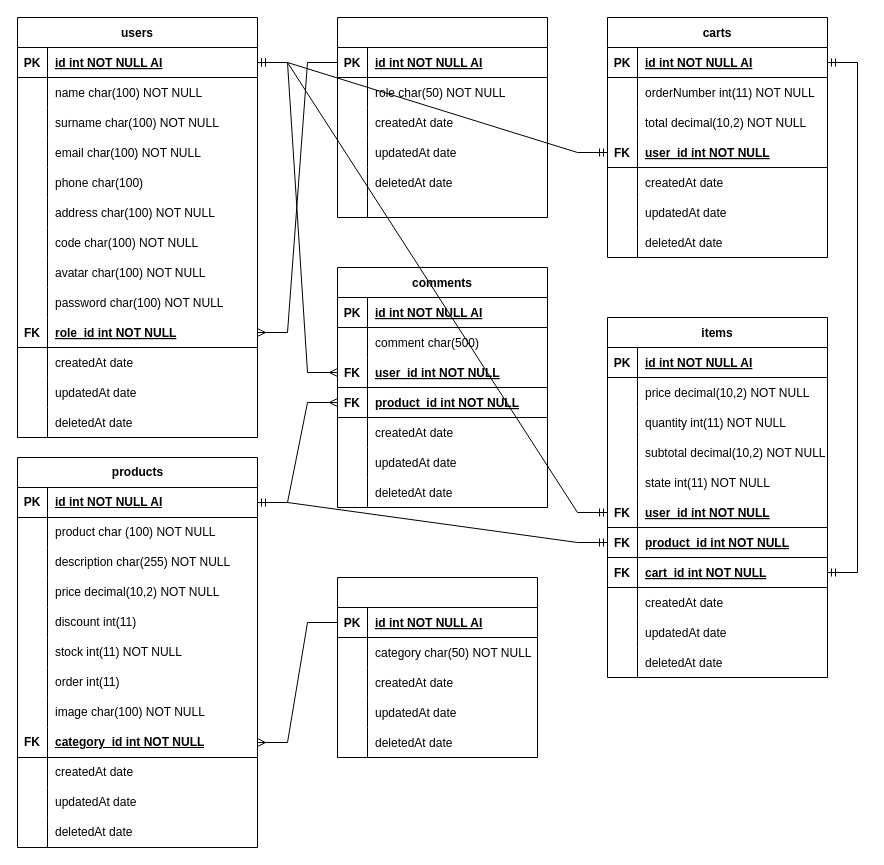
The diagram is 884 pixels wide and 865 high, and some of its shapes have lost their labels. The box of each missing label's shape, as (x1, y1, x2, y2) in pixels:
categories: (336, 576, 538, 758)
roles: (336, 16, 548, 218)
